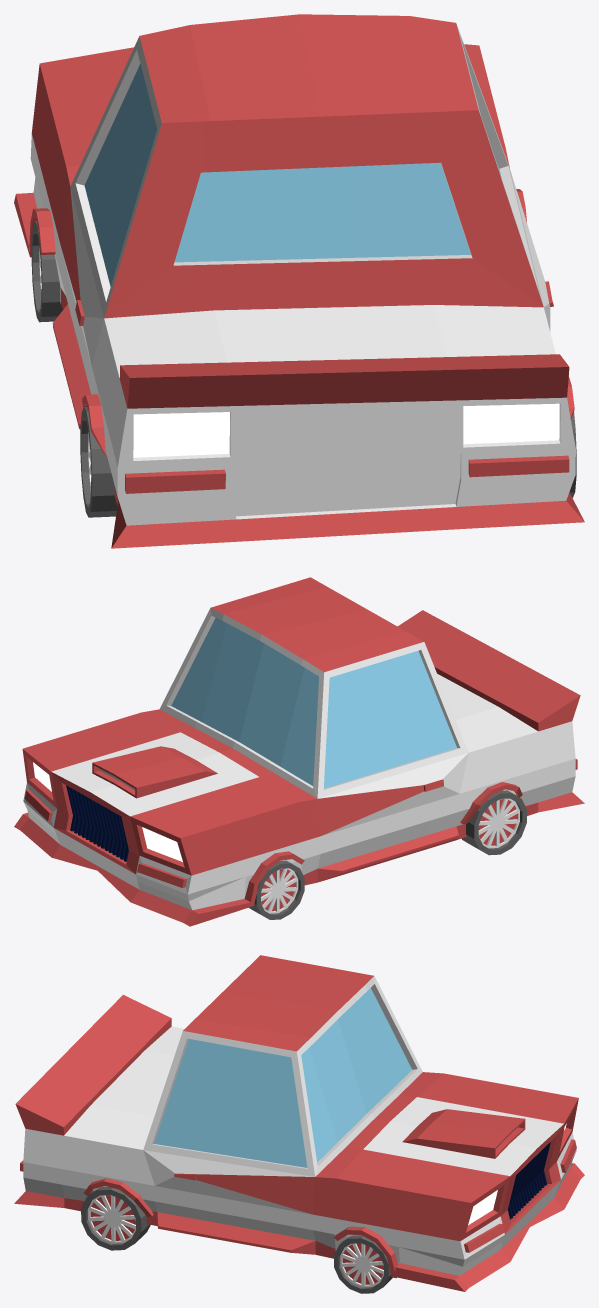
File: red.fbx
The picture shows the model from 3 angles, top to bottom: view 1: azimuth 30°, elevation 25°; view 2: azimuth 150°, elevation 25°; view 3: azimuth 270°, elevation 25°; orthographic projection. The views are drawn at different scales.
Parts seen in each view (by area): view 1: body, backlight, wheel_1, wheel1_1, front_fender, rear_fender; view 2: body, wheel_1, lattice_1, wheel1_1, headlight, front_fender, rear_fender; view 3: body, wheel_1, wheel1_1, lattice_1, front_fender, rear_fender, headlight.
Part boxes in pixels (left/top/right/bottom): body: left=14, top=14, right=584, bottom=548; backlight: left=133, top=403, right=559, bottom=457; wheel_1: left=80, top=406, right=576, bottom=517; wheel1_1: left=31, top=221, right=62, bottom=322; front_fender: left=29, top=189, right=526, bottom=257; rear_fender: left=82, top=376, right=574, bottom=455; body: left=14, top=577, right=584, bottom=926; wheel_1: left=461, top=790, right=526, bottom=855; lattice_1: left=66, top=785, right=128, bottom=861; wheel1_1: left=249, top=860, right=304, bottom=919; headlight: left=33, top=762, right=182, bottom=861; front_fender: left=244, top=851, right=304, bottom=906; rear_fender: left=460, top=782, right=522, bottom=824; body: left=14, top=955, right=584, bottom=1291; wheel_1: left=81, top=1187, right=150, bottom=1250; wheel1_1: left=334, top=1235, right=392, bottom=1293; lattice_1: left=508, top=1142, right=550, bottom=1220; front_fender: left=334, top=1226, right=398, bottom=1278; rear_fender: left=83, top=1178, right=153, bottom=1216; headlight: left=468, top=1123, right=566, bottom=1225.
Bounding box in the file's own units: 216 × 111 × 264.
